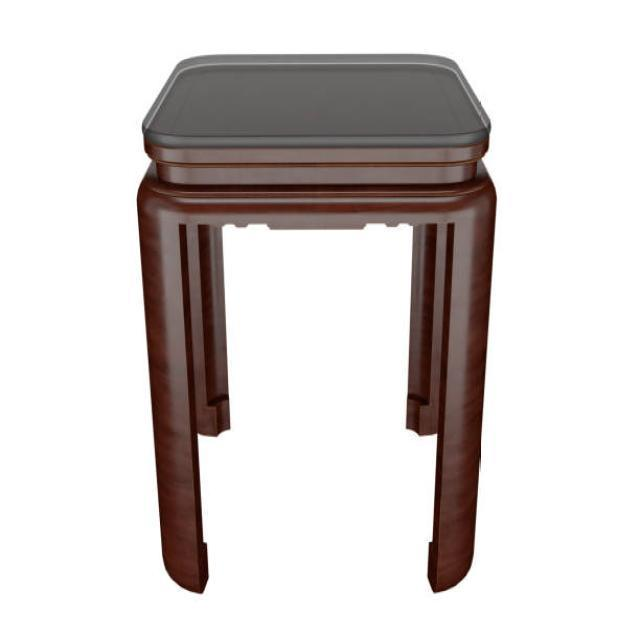table: (135, 51, 497, 595)
